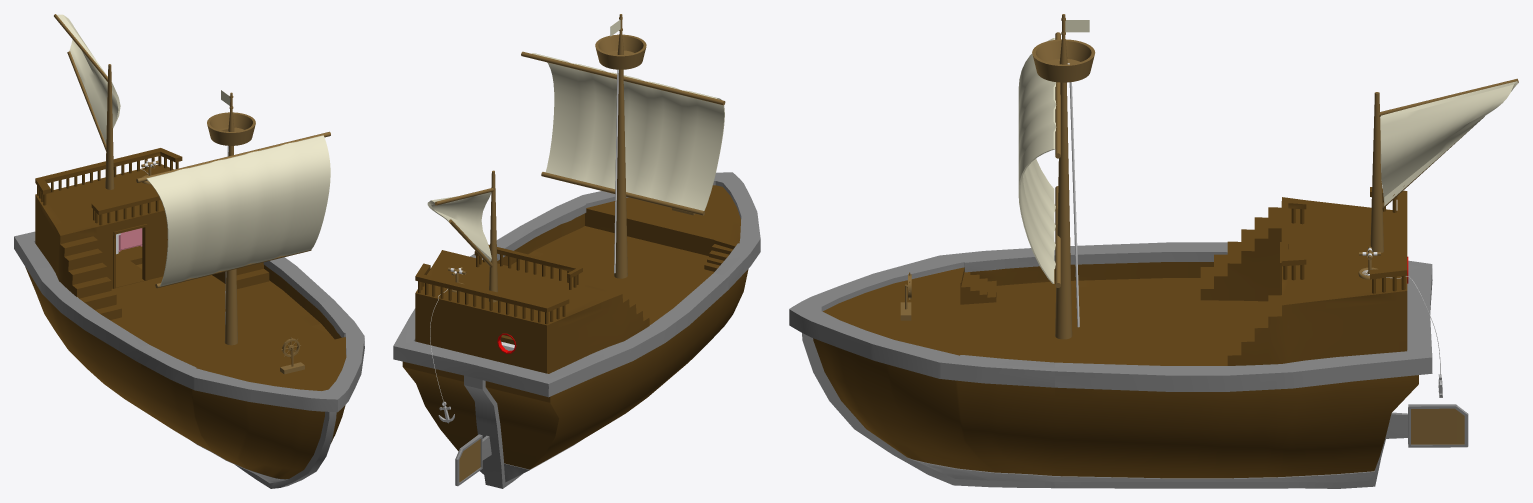
File: TheRobbingShantyShip VersionFinal model test 1 for Text 4.fbx
The picture shows the model from 3 angles, left to right: view 1: azimuth 30°, elevation 25°; view 2: azimuth 150°, elevation 25°; view 3: azimuth 270°, elevation 25°; orthographic projection. The views are drawn at different scales.
Parts seen in each view (by area): view 1: Ship.002, MainSail, InteriorAndupper, Ship.001, Ship, MainMast, Sail2, WindCape, Fridge; view 2: Ship, InteriorAndupper, MainSail, Ship.002, Ship.001, MainMast, Sail2, WindCape, Motor; view 3: Ship.002, Ship.001, Ship, InteriorAndupper, Sail2, MainMast, MainSail, Motor, WindCape.
Boxes of the visible parts, box(x1,y1,x2,y2) form: Ship.002: box(135, 300, 364, 488); MainSail: box(146, 135, 330, 286); InteriorAndupper: box(35, 148, 269, 319); Ship.001: box(73, 258, 333, 444); Ship: box(14, 231, 285, 390); MainMast: box(136, 92, 330, 345); Sail2: box(57, 14, 120, 144); WindCape: box(54, 14, 114, 189); Fridge: box(118, 228, 142, 251); Ship: box(393, 308, 677, 488); InteriorAndupper: box(415, 244, 652, 373); MainSail: box(532, 53, 724, 210); Ship.002: box(521, 172, 760, 342); Ship.001: box(470, 226, 728, 404); MainMast: box(521, 14, 725, 278); Sail2: box(427, 192, 491, 261); WindCape: box(434, 170, 497, 302); Motor: box(455, 434, 491, 486); Ship.002: box(789, 248, 1055, 488); Ship.001: box(1055, 242, 1196, 488); Ship: box(1197, 242, 1432, 488); InteriorAndupper: box(1200, 187, 1408, 365); Sail2: box(1380, 81, 1517, 205); MainMast: box(1032, 14, 1095, 339); MainSail: box(1018, 38, 1056, 283); Motor: box(1386, 404, 1468, 447); WindCape: box(1370, 78, 1518, 252).
Size of the model in its own units: 2151 by 929 by 1534.
